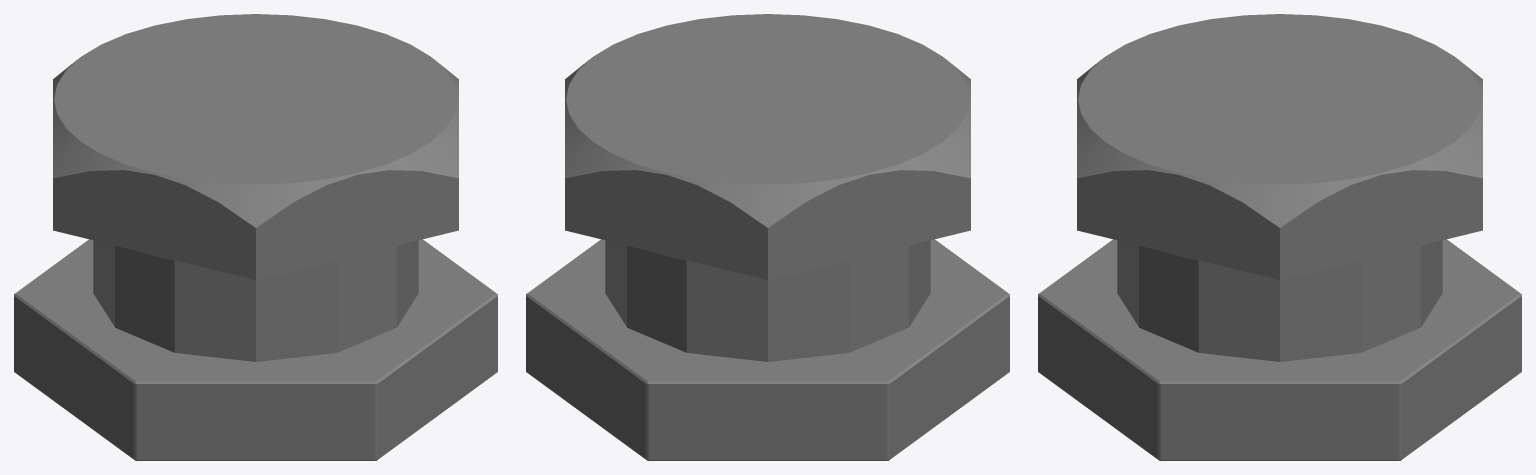
The model's file is ThreeHighConnector.fbx.
3 renders of one model, left to right at view 1: azimuth 30°, elevation 25°; view 2: azimuth 150°, elevation 25°; view 3: azimuth 270°, elevation 25°, orthographic.
Visible parts, largest first — view 1: 3HighConnection; view 2: 3HighConnection; view 3: 3HighConnection.
Part boxes in pixels (x1=…): 3HighConnection: x1=14, y1=14, x2=497, y2=460; 3HighConnection: x1=526, y1=14, x2=1009, y2=460; 3HighConnection: x1=1038, y1=14, x2=1521, y2=460.
Size of the model in its own units: 2.12 by 1.36 by 2.19.
